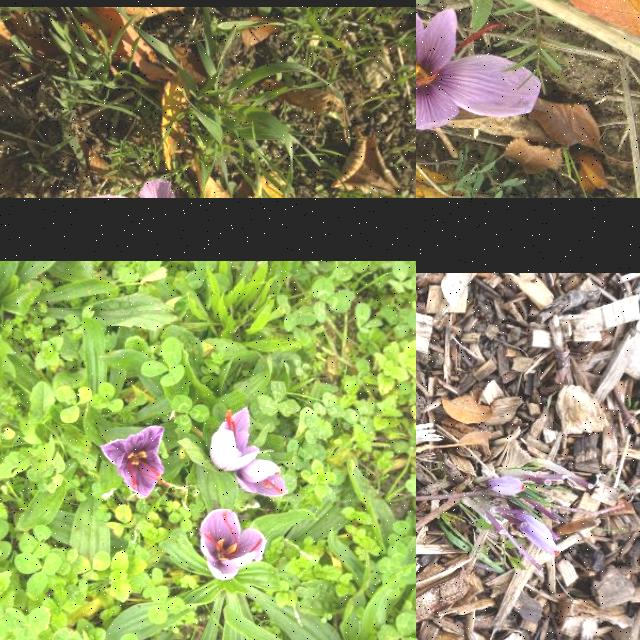flower: (416, 0, 541, 138), (100, 425, 170, 499), (201, 508, 267, 580), (209, 408, 259, 472), (234, 459, 288, 497), (516, 514, 562, 556), (484, 476, 526, 498)
